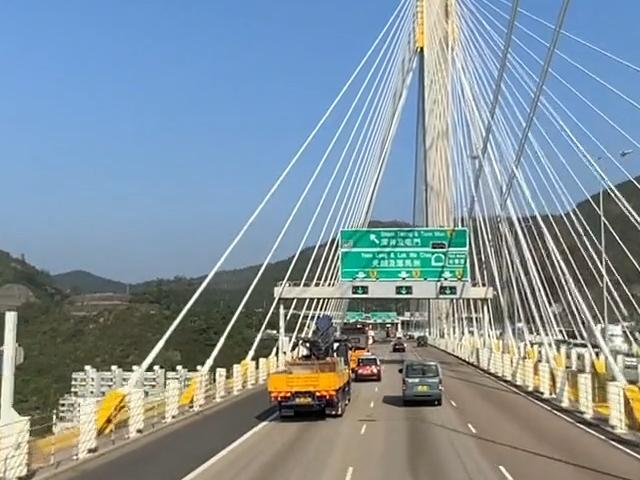car: (352, 351, 381, 381)
truck: (263, 312, 357, 427)
van: (390, 352, 450, 407)
